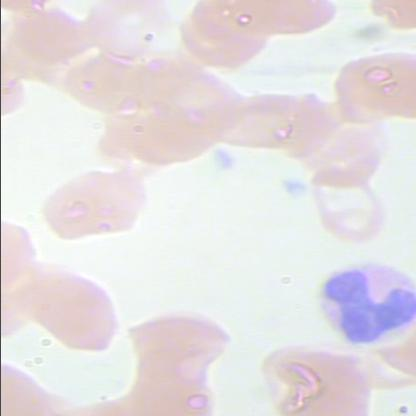Platelets: (275, 173, 313, 205), (205, 146, 243, 178)
RBC: (20, 262, 124, 360), (255, 342, 376, 415), (43, 168, 147, 246), (132, 299, 236, 377), (66, 54, 192, 114), (200, 92, 326, 152), (304, 165, 390, 245), (335, 47, 415, 124), (78, 1, 184, 57), (209, 1, 336, 40), (361, 0, 415, 36)
WBC: (308, 256, 415, 353)
